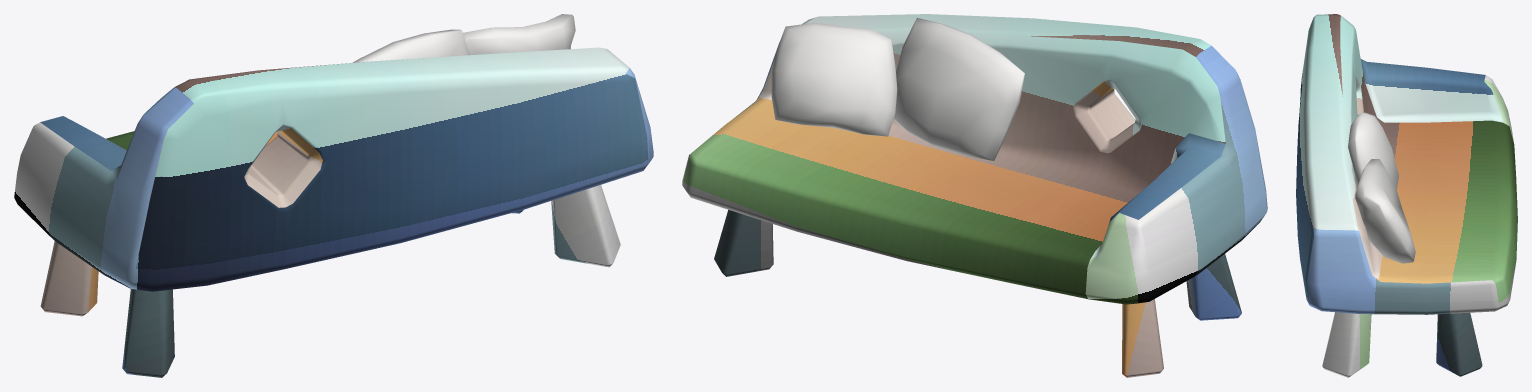
The model's file is P_StoneBench.glb.
3 renders of one model, left to right at view 1: azimuth 30°, elevation 25°; view 2: azimuth 150°, elevation 25°; view 3: azimuth 270°, elevation 25°, orthographic. The views are drawn at different scales.
Parts seen in each view (by area): view 1: P_StoneBench; view 2: P_StoneBench; view 3: P_StoneBench.
Boxes of the visible parts, x1,y1,x2,y2 form: P_StoneBench: (14, 14, 653, 377); P_StoneBench: (682, 14, 1267, 377); P_StoneBench: (1296, 14, 1517, 377).
Bounding box in the file's own units: 1.5 × 0.7595 × 0.7384.
1 material, 1 textured.
